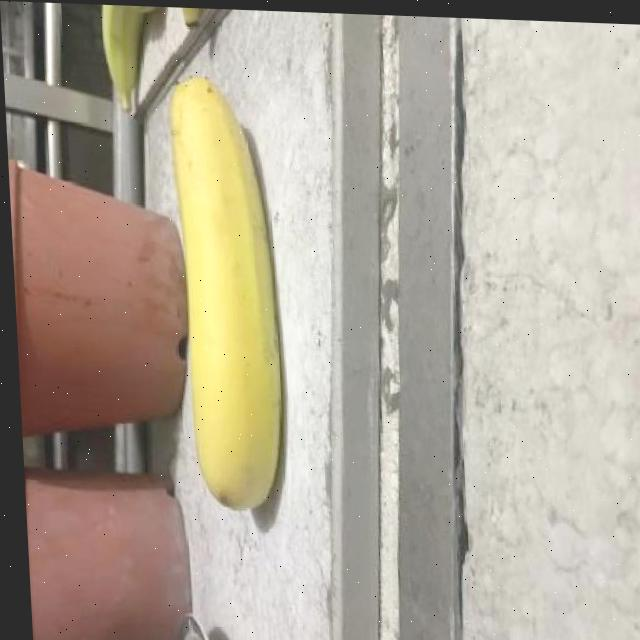banana: (160, 72, 288, 522)
